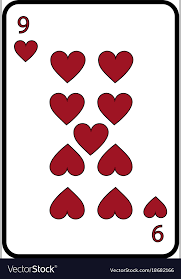nine of hearts: (7, 3, 176, 254)
